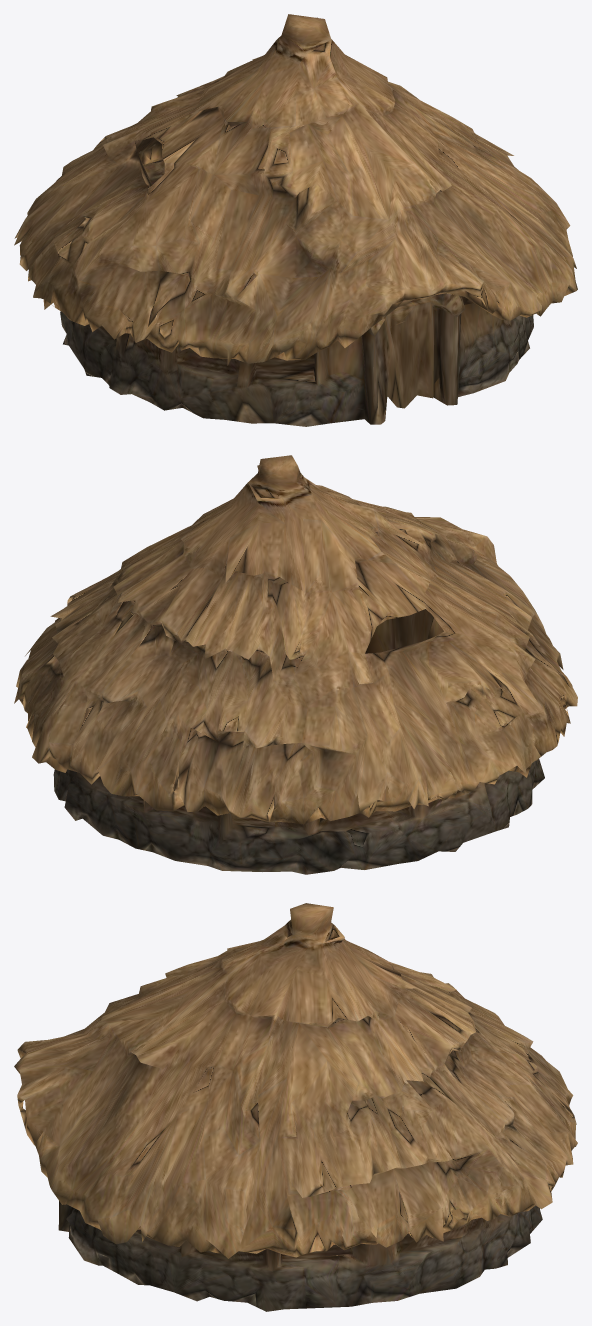
Rendered from maja1.glb.
3 views of the same model, one above another, from view 1: azimuth 30°, elevation 25°; view 2: azimuth 150°, elevation 25°; view 3: azimuth 270°, elevation 25° (orthographic). The views are drawn at different scales.
Visible parts, largest first — view 1: model; view 2: model; view 3: model.
Boxes of the visible parts, bbox=[...] form: model: bbox=[14, 14, 577, 426]; model: bbox=[14, 455, 577, 874]; model: bbox=[14, 903, 577, 1311].
Bounding box in the file's own units: 0.97 × 0.5835 × 0.9705.
Materials: 1 (1 with a texture image).
